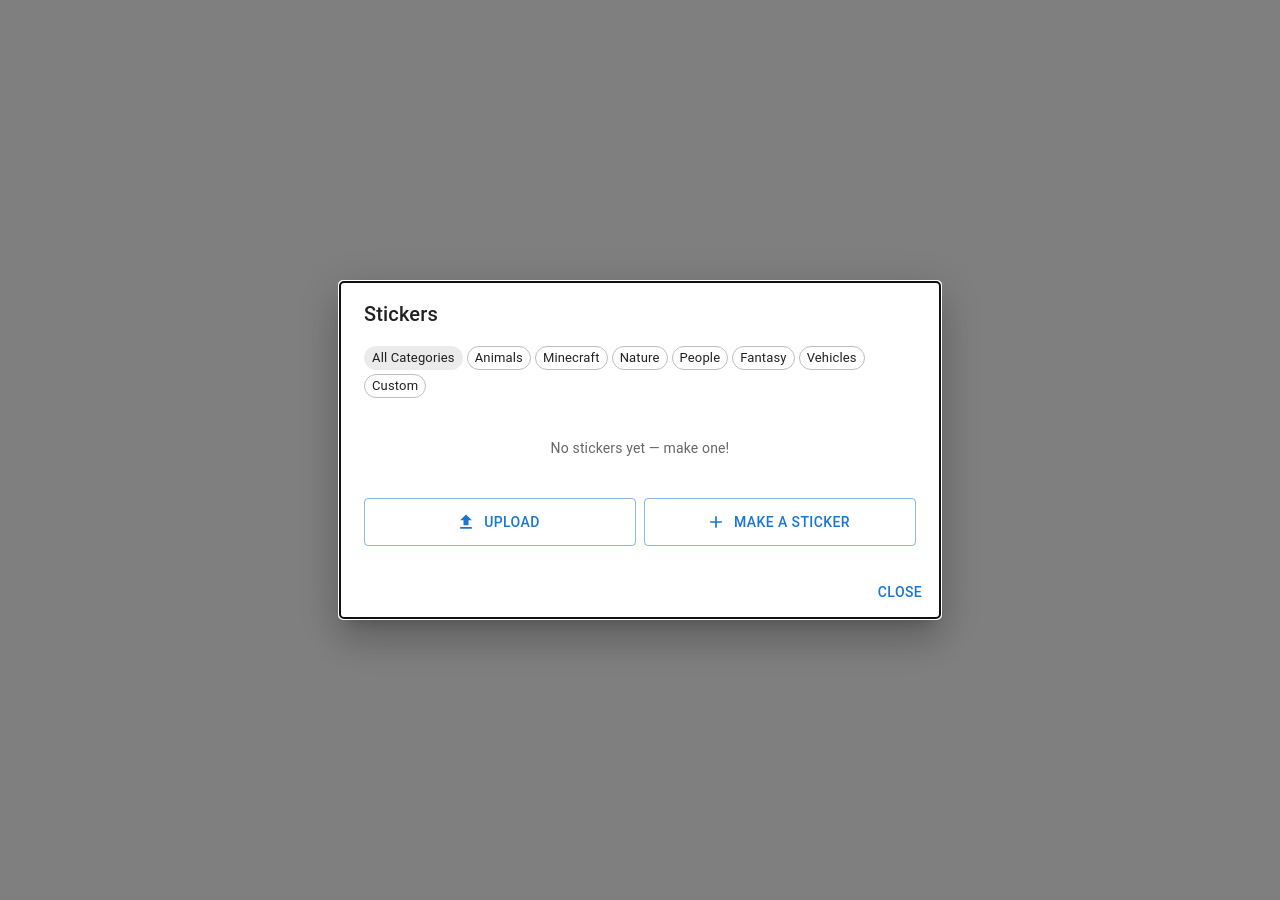
Test: StickerPicker — weekly art budget (FEAT-168) › a counter that never settles does not wedge the door (FEAT-167 contract)
Click the button "Make a sticker".
click(780, 522)  # box [644, 498, 916, 546]
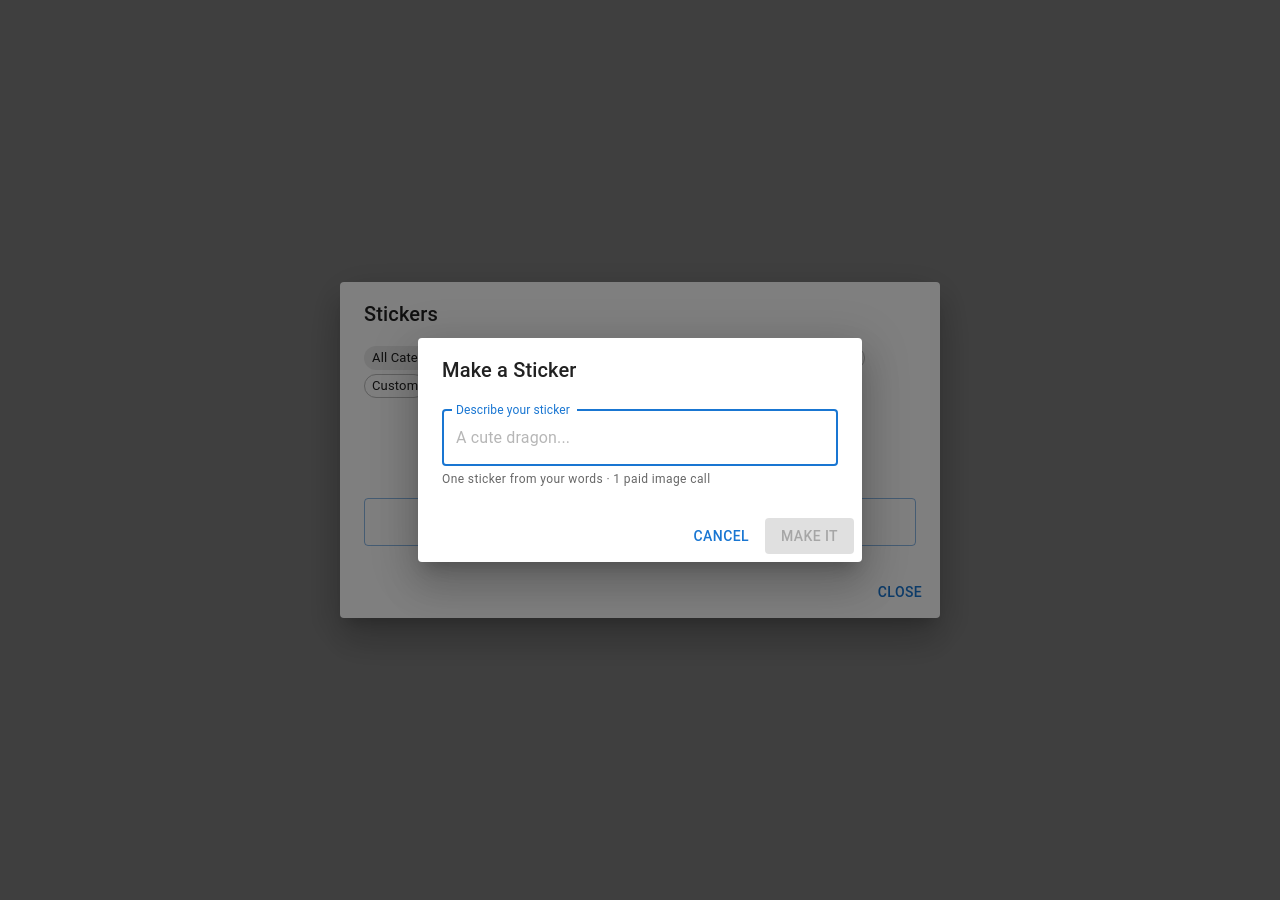
Type "a dragon" into the field labelled "Describe your sticker".
click(640, 438); type("a dragon")  # box [442, 410, 838, 466]
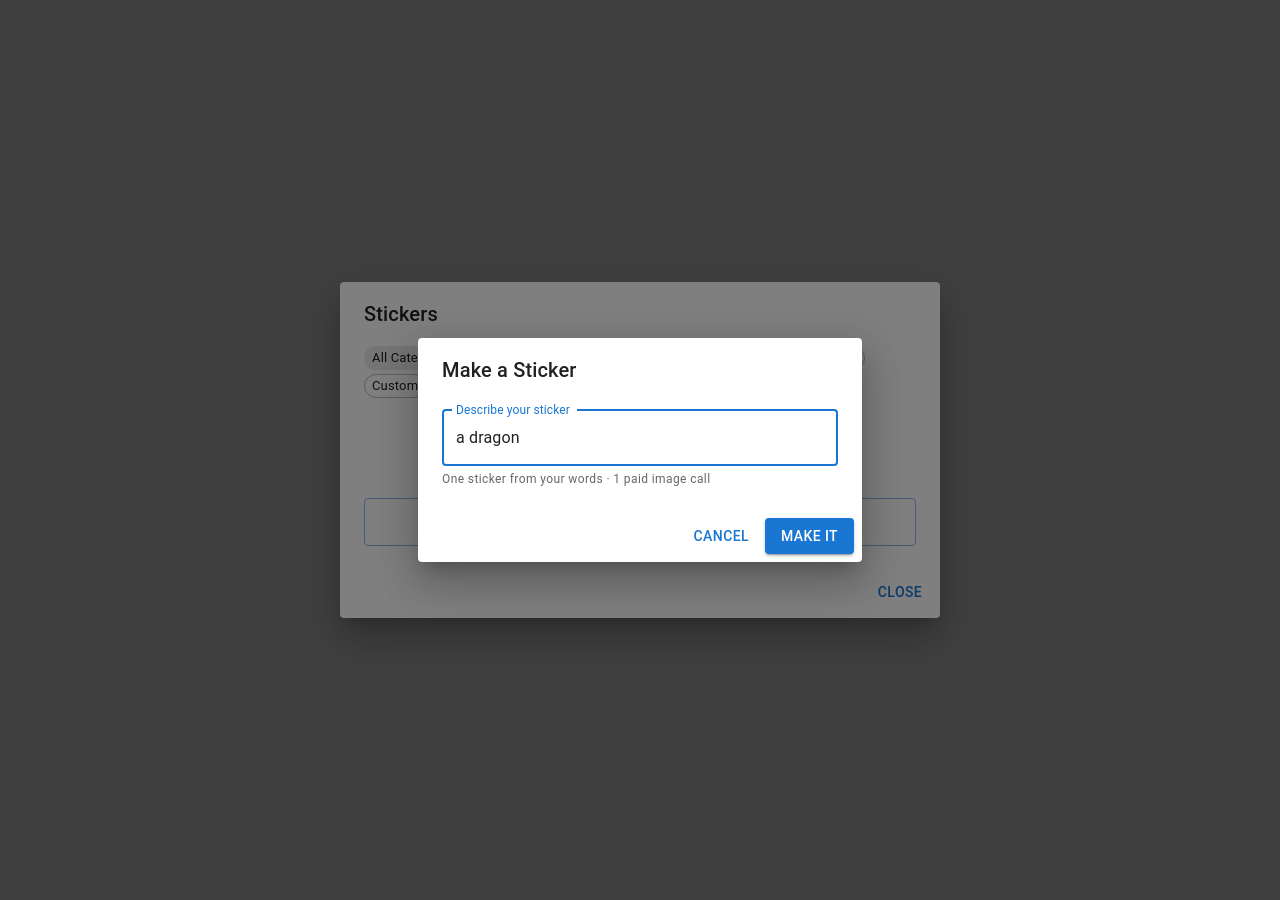
Click the button "Make it".
click(810, 536)  # box [765, 518, 854, 554]
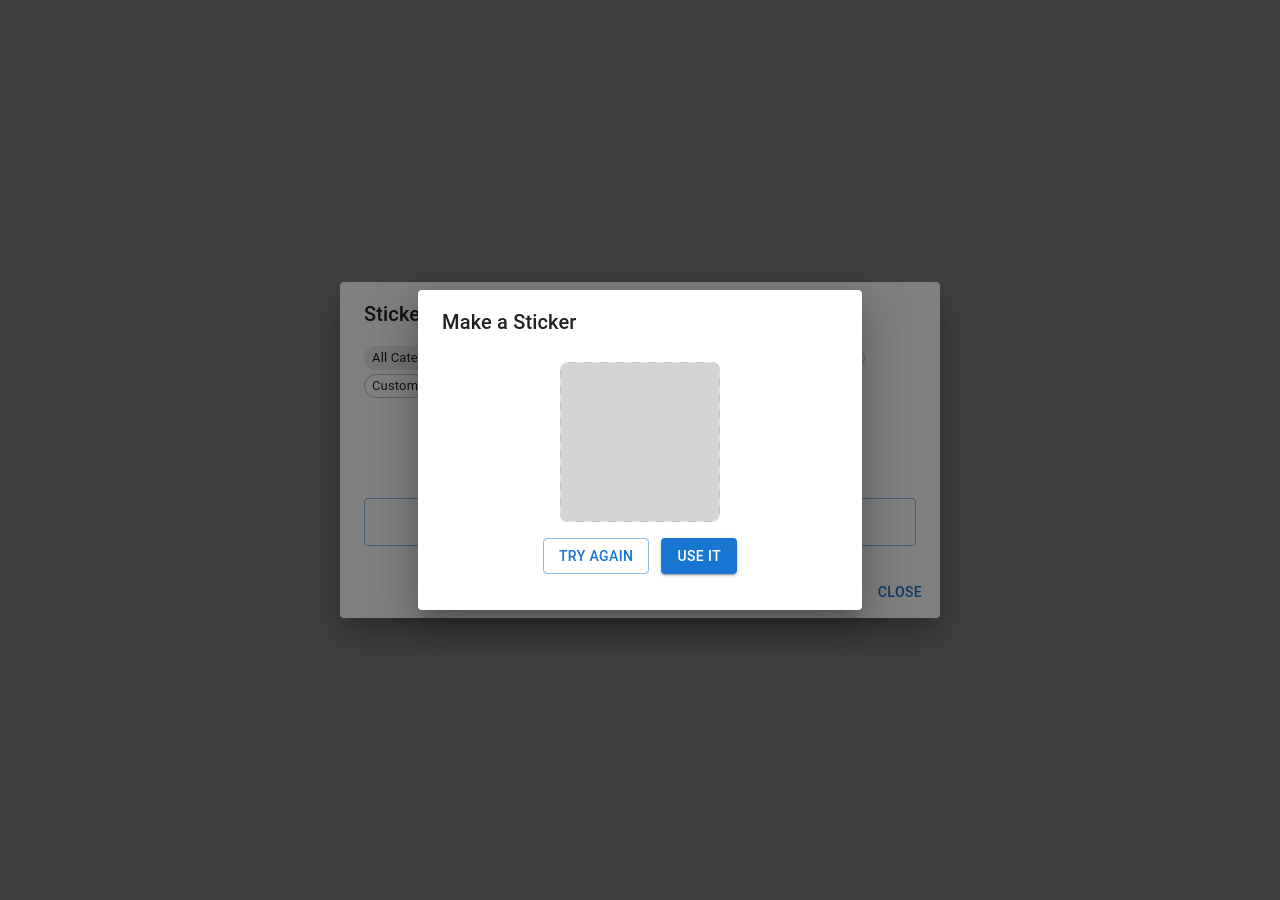
Expected: the button "Use it" is shown, [661, 538, 737, 574]
